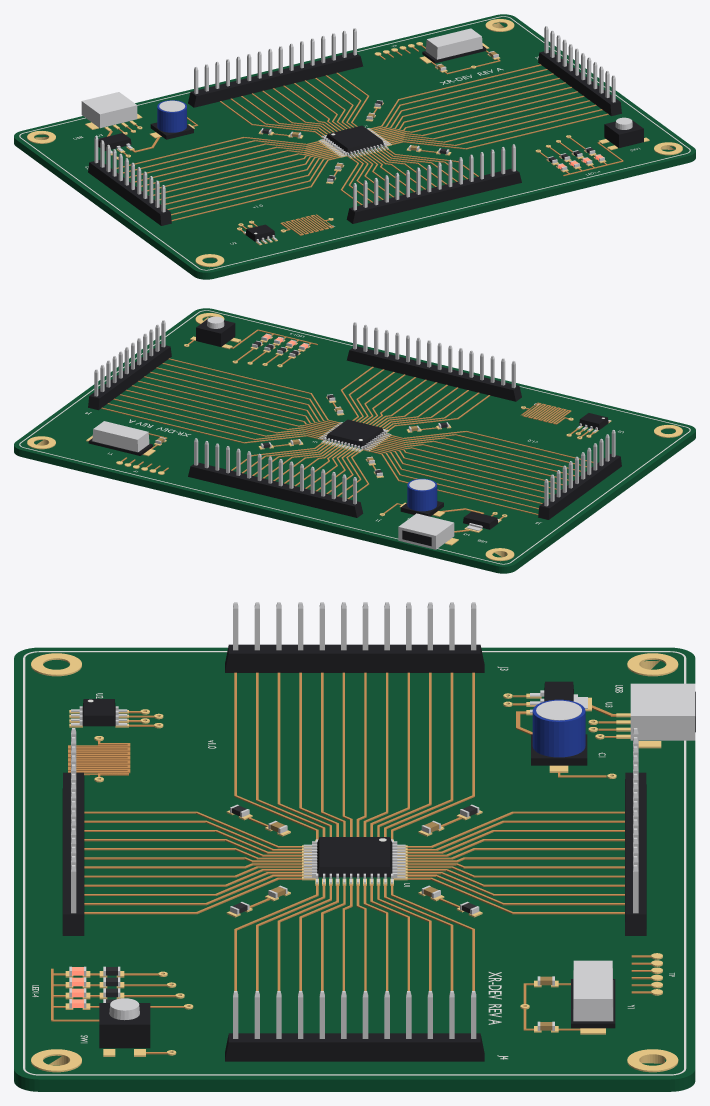
File: table_equipments.fbx
The picture shows the model from 3 angles, top to bottom: view 1: azimuth 30°, elevation 25°; view 2: azimuth 150°, elevation 25°; view 3: azimuth 270°, elevation 25°; orthographic projection. The views are drawn at different scales.
Parts seen in each view (by area): view 1: PCB; view 2: PCB; view 3: PCB.
Boxes of the visible parts, bbox=[...] form: PCB: bbox=[14, 14, 695, 279]; PCB: bbox=[14, 308, 695, 573]; PCB: bbox=[14, 602, 695, 1091].
Bounding box in the file's own units: 12 × 1.27 × 8.01.
